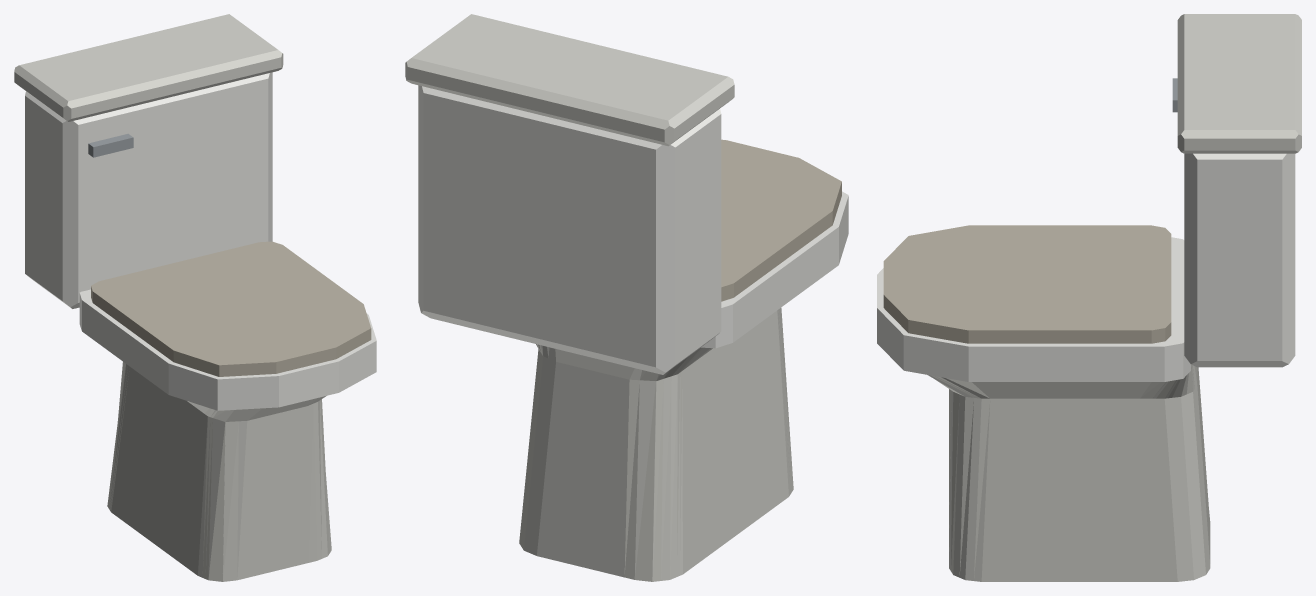
The model's file is toilettes.glb.
3 renders of one model, left to right at view 1: azimuth 30°, elevation 25°; view 2: azimuth 150°, elevation 25°; view 3: azimuth 270°, elevation 25°, orthographic. The views are drawn at different scales.
Visible parts, largest first — view 1: cistern, pedestal, lid, cistern_lid, bowl, lever; view 2: cistern, pedestal, cistern_lid, lid, bowl; view 3: pedestal, lid, cistern, cistern_lid, bowl.
Boxes of the visible parts, x1,y1,x2,y2 form: cistern: (25,72,272,308); pedestal: (107,362,331,581); lid: (91,241,371,376); cistern_lid: (14,14,283,121); bowl: (79,289,376,410); lever: (88,133,133,157); cistern: (418,85,721,374); pedestal: (519,308,793,581); cistern_lid: (405,14,734,146); lid: (721,139,841,301); bowl: (701,191,848,348); pedestal: (928,364,1210,581); lid: (883,225,1171,343); cistern: (1184,153,1295,367); cistern_lid: (1177,14,1301,153); bowl: (877,237,1190,381).
Size of the model in its own units: 0.44 by 0.8 by 0.65.
Materials: 4 (4 with a texture image).
